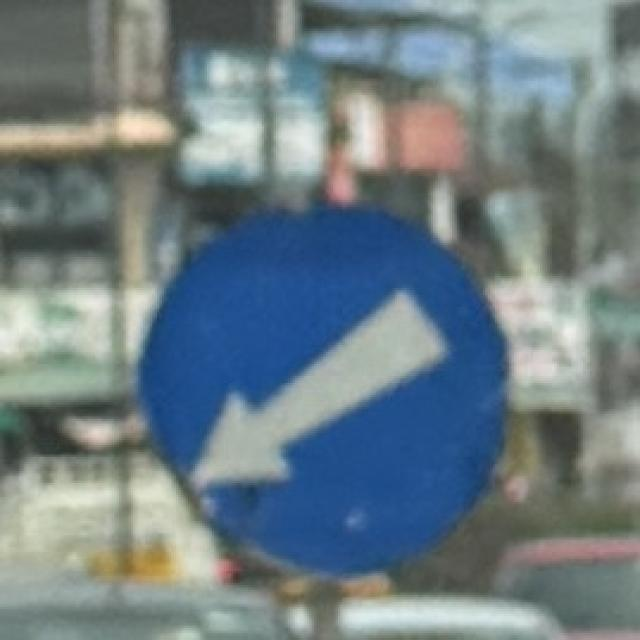KEEP_LEFT: (135, 205, 515, 583)
